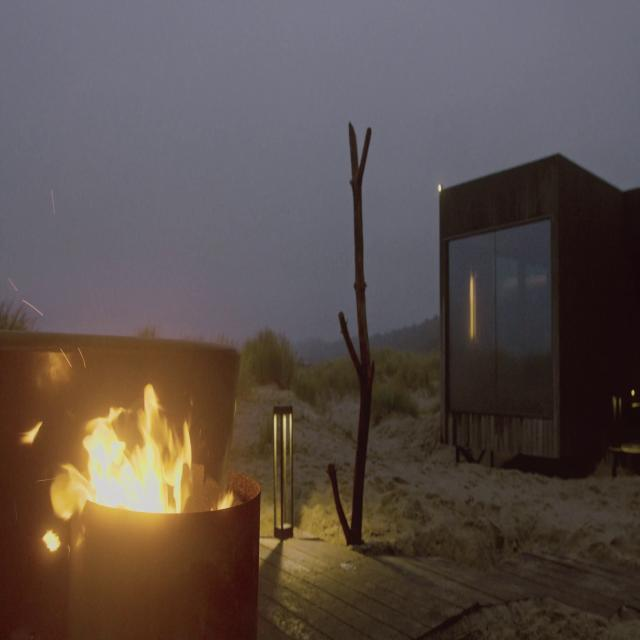Fire: (58, 373, 194, 521)
